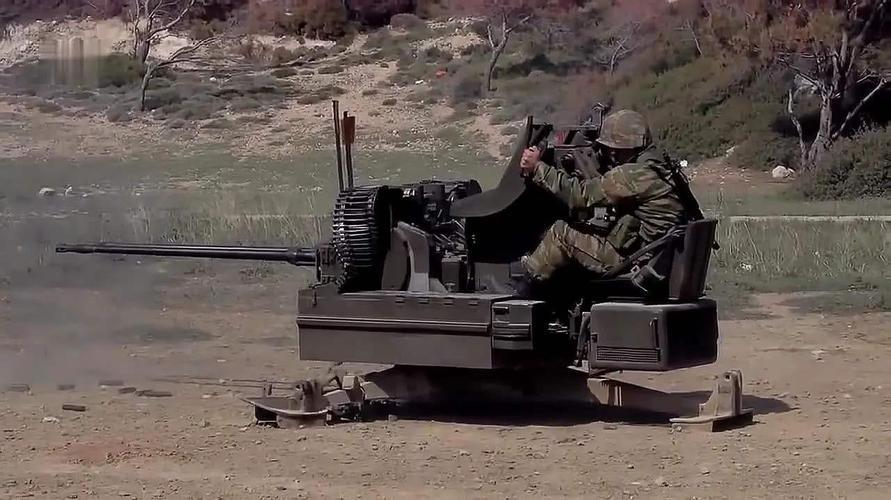MIL_SPG: (57, 101, 752, 431)
